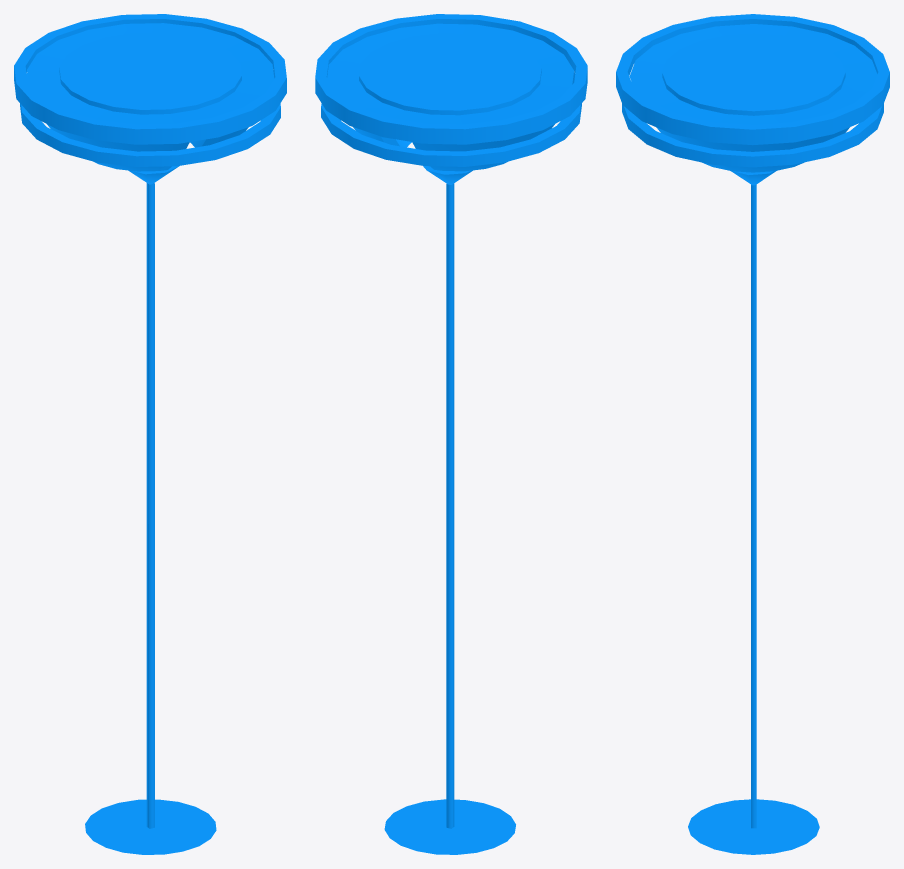
The model's file is pokestop_far_low.fbx.
3 views of the same model, side by side, from view 1: azimuth 30°, elevation 25°; view 2: azimuth 150°, elevation 25°; view 3: azimuth 270°, elevation 25° (orthographic).
Parts seen in each view (by area): view 1: pokestop_far_low; view 2: pokestop_far_low; view 3: pokestop_far_low.
Boxes of the visible parts, <box> form: pokestop_far_low: <box>14,14,286,854</box>; pokestop_far_low: <box>315,14,587,854</box>; pokestop_far_low: <box>616,14,889,854</box>.
Size of the model in its own units: 1.97 by 5.99 by 1.97.
